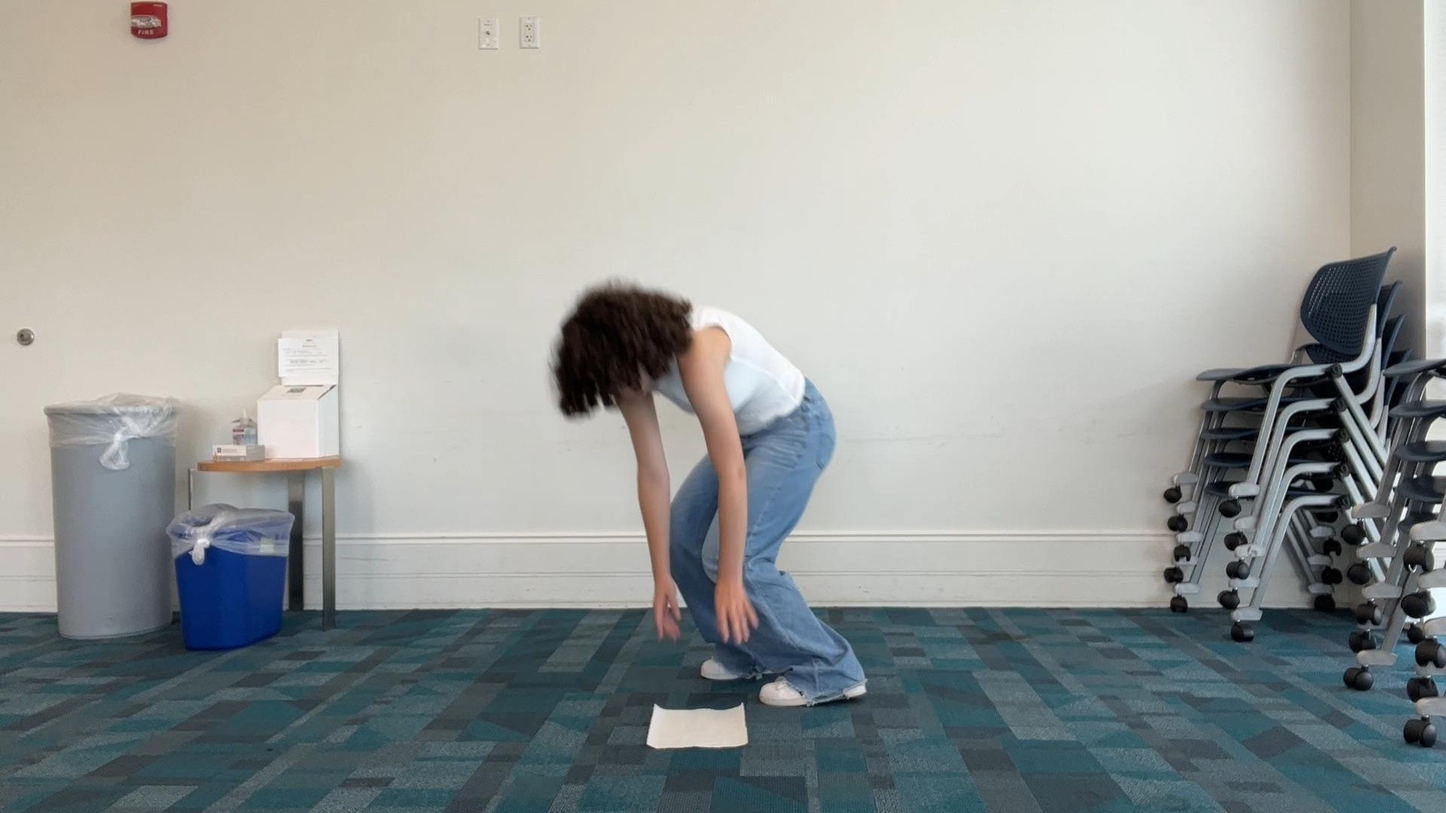Trash: (629, 695, 761, 759)
